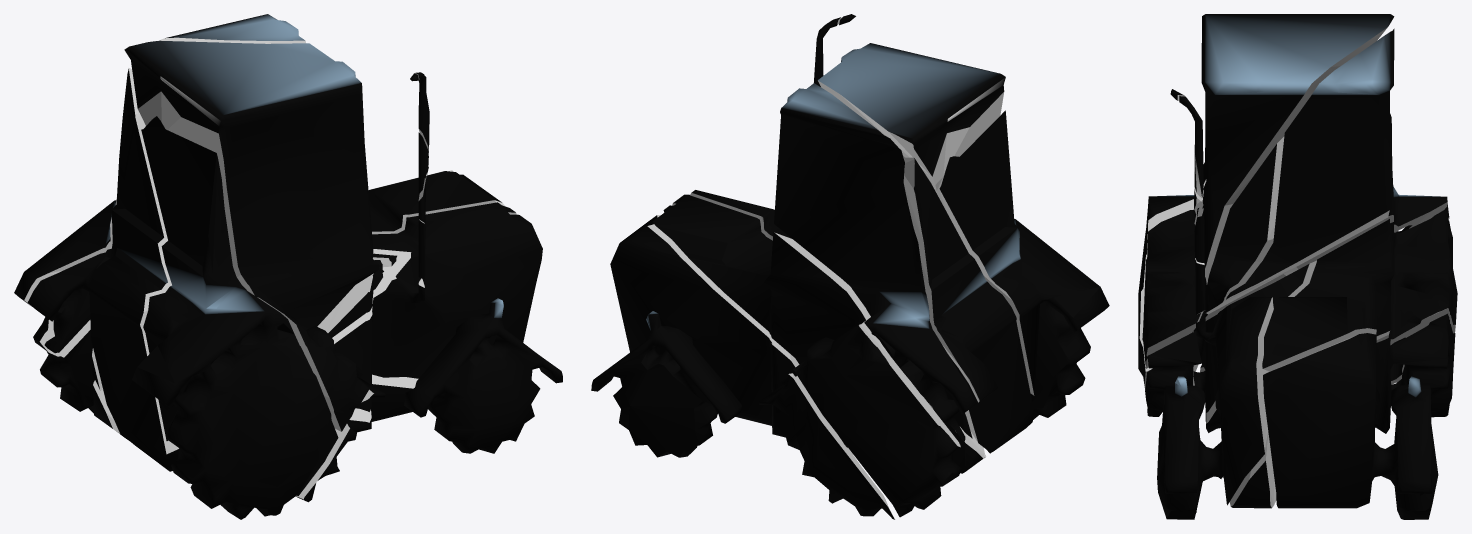
File: Tractors(2).glb
The picture shows the model from 3 angles, left to right: view 1: azimuth 30°, elevation 25°; view 2: azimuth 150°, elevation 25°; view 3: azimuth 270°, elevation 25°; orthographic projection. The views are drawn at different scales.
Visible parts, largest first — view 1: Root.006, Root, Root.001, Root.003, Root.010, Root.011, Root.007, Root.008; view 2: Root.004, Root.011, Root.010, Root, Root.003, Root.006, Root.001, Root.007; view 3: Root.004, Root.006, Root.010, Root.001, Root.011, Root.003, Root.007, Root, Root.008, Root.012, Root.005.
Boxes of the visible parts, box(x1,y1,x2,y2) form: Root.006: box(124, 40, 379, 431); Root: box(132, 116, 338, 519); Root.001: box(295, 202, 562, 502); Root.003: box(27, 68, 383, 471); Root.010: box(14, 14, 396, 390); Root.011: box(33, 171, 516, 413); Root.007: box(93, 374, 418, 439); Root.008: box(415, 72, 429, 152); Root.004: box(591, 215, 894, 519); Root.011: box(652, 195, 961, 517); Root.010: box(774, 83, 976, 441); Root: box(939, 110, 1109, 419); Root.003: box(903, 156, 1033, 453); Root.006: box(818, 43, 1005, 213); Root.001: box(672, 190, 791, 240); Root.007: box(928, 403, 986, 473); Root.004: box(1263, 313, 1455, 519); Root.006: box(1142, 14, 1394, 368); Root.010: box(1226, 28, 1450, 299); Root.001: box(1145, 260, 1316, 519); Root.011: box(1262, 209, 1457, 384); Root.003: box(1200, 136, 1298, 372); Root.007: box(1193, 369, 1276, 508); Root: box(1138, 99, 1207, 389); Root.008: box(1179, 96, 1203, 198); Root.012: box(1195, 258, 1205, 314); Root.005: box(1194, 208, 1204, 262).
Size of the model in its own units: 4.04 by 3.69 by 2.73.
